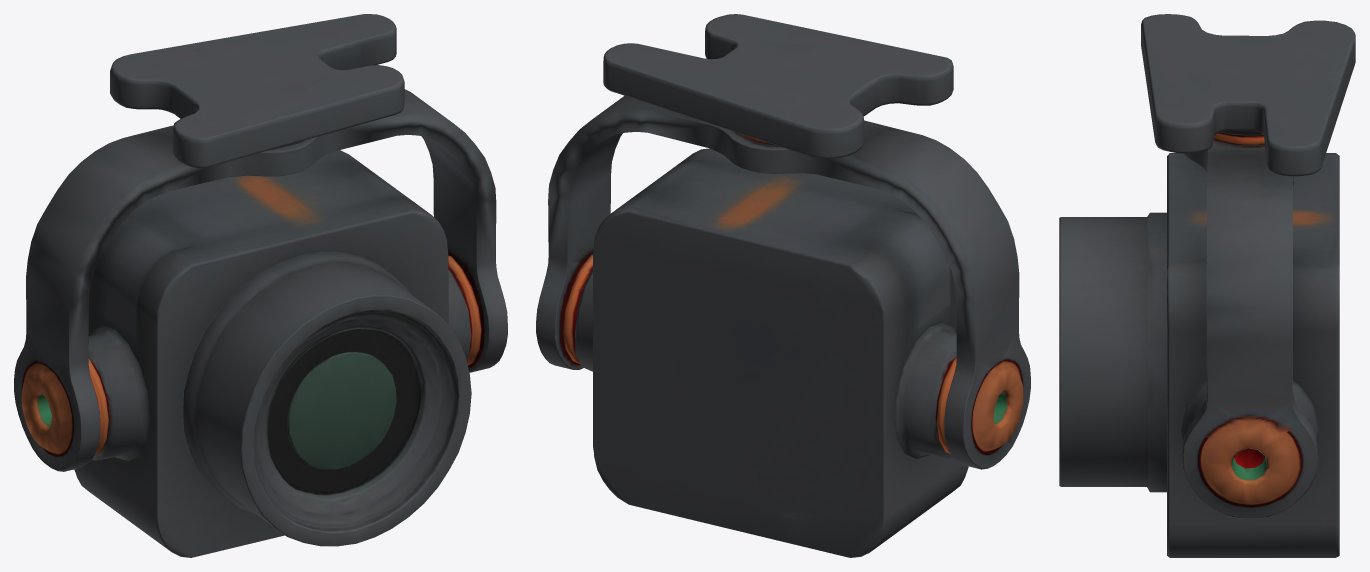
File: camera-pod.glb
The picture shows the model from 3 angles, left to right: view 1: azimuth 30°, elevation 25°; view 2: azimuth 150°, elevation 25°; view 3: azimuth 270°, elevation 25°; orthographic projection.
Parts seen in each view (by area): view 1: Camera pod; view 2: Camera pod; view 3: Camera pod.
Part boxes in pixels (x1,y1,x2,y2): Camera pod: [14, 14, 507, 557]; Camera pod: [536, 14, 1030, 557]; Camera pod: [1059, 14, 1355, 557].
Bounding box in the file's own units: 0.998 × 0.9277 × 0.5801.
Materials: 1 (1 with a texture image).
